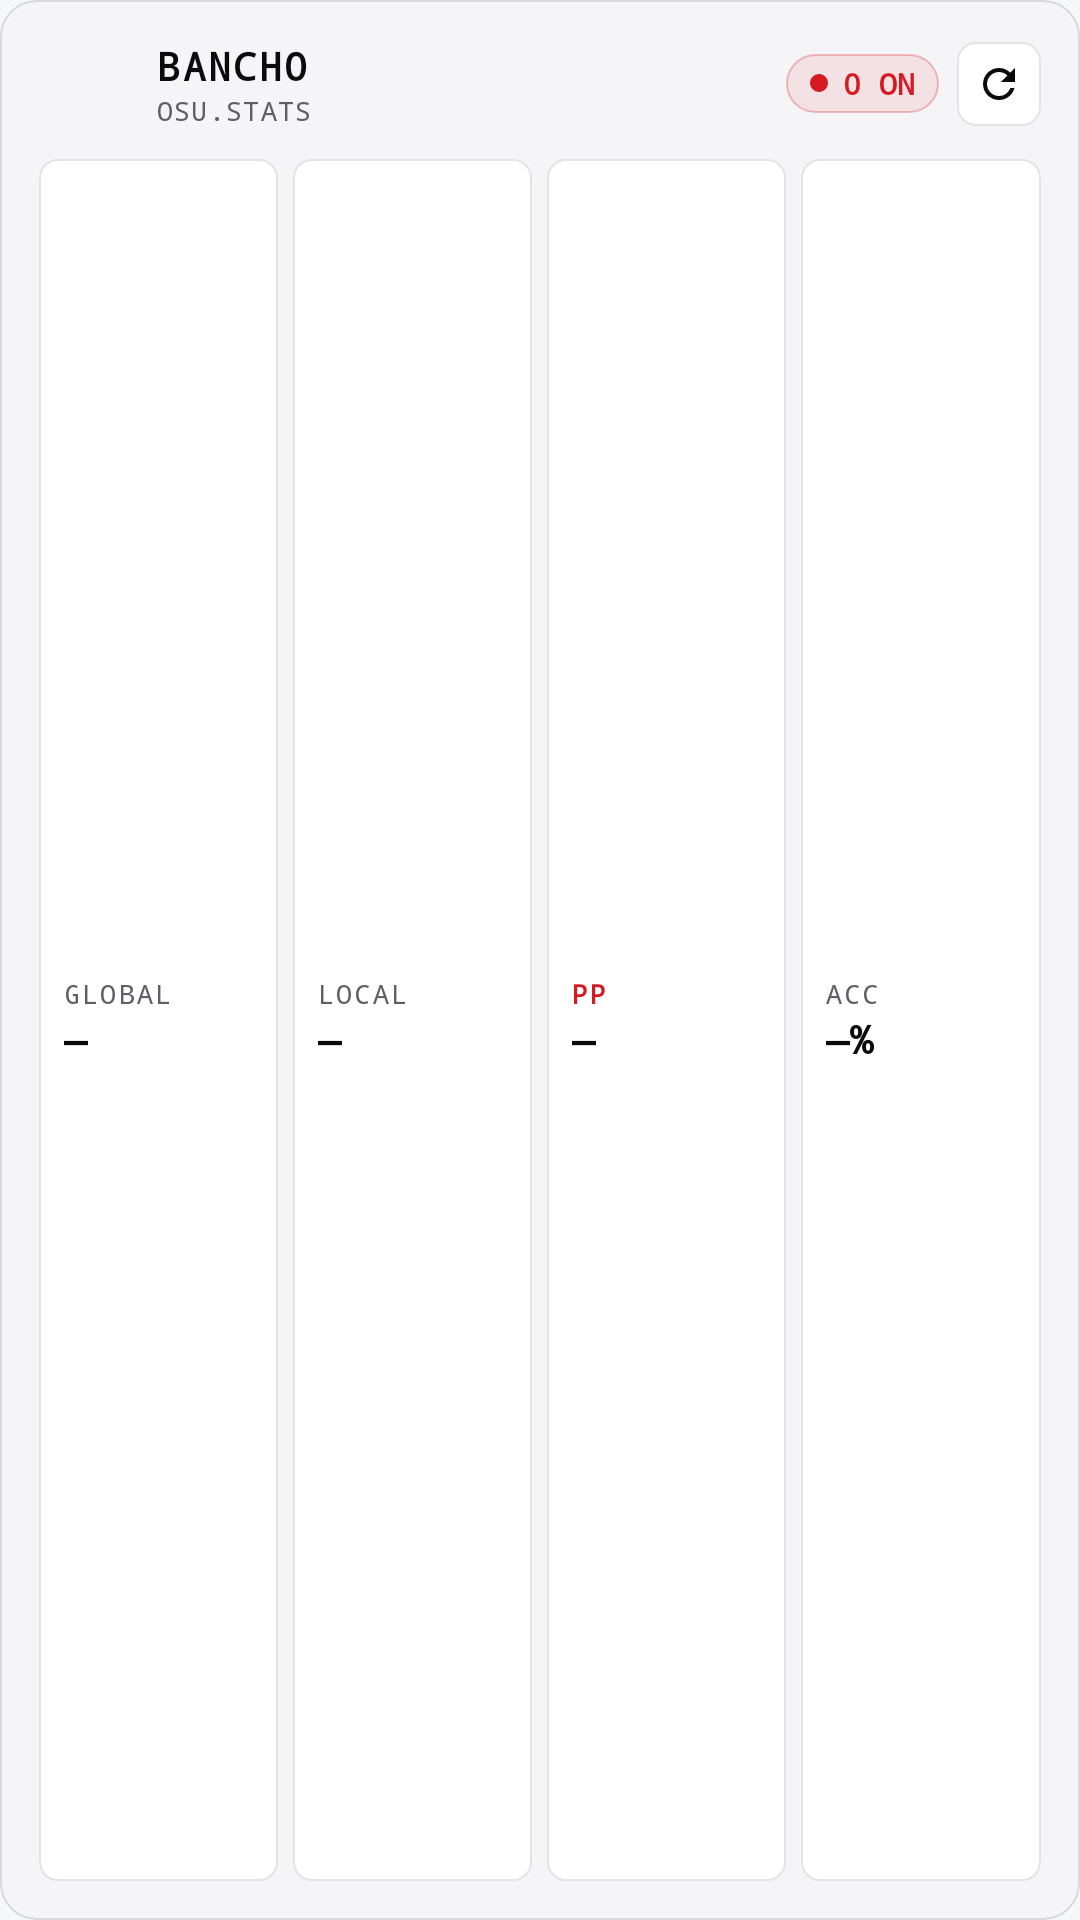

Locate icon controls on the screen. Image size 1080px×1920px, boxes as bbox=(x1, y1, x2, y2).
Refresh stats: bbox=(957, 42, 1041, 126)
